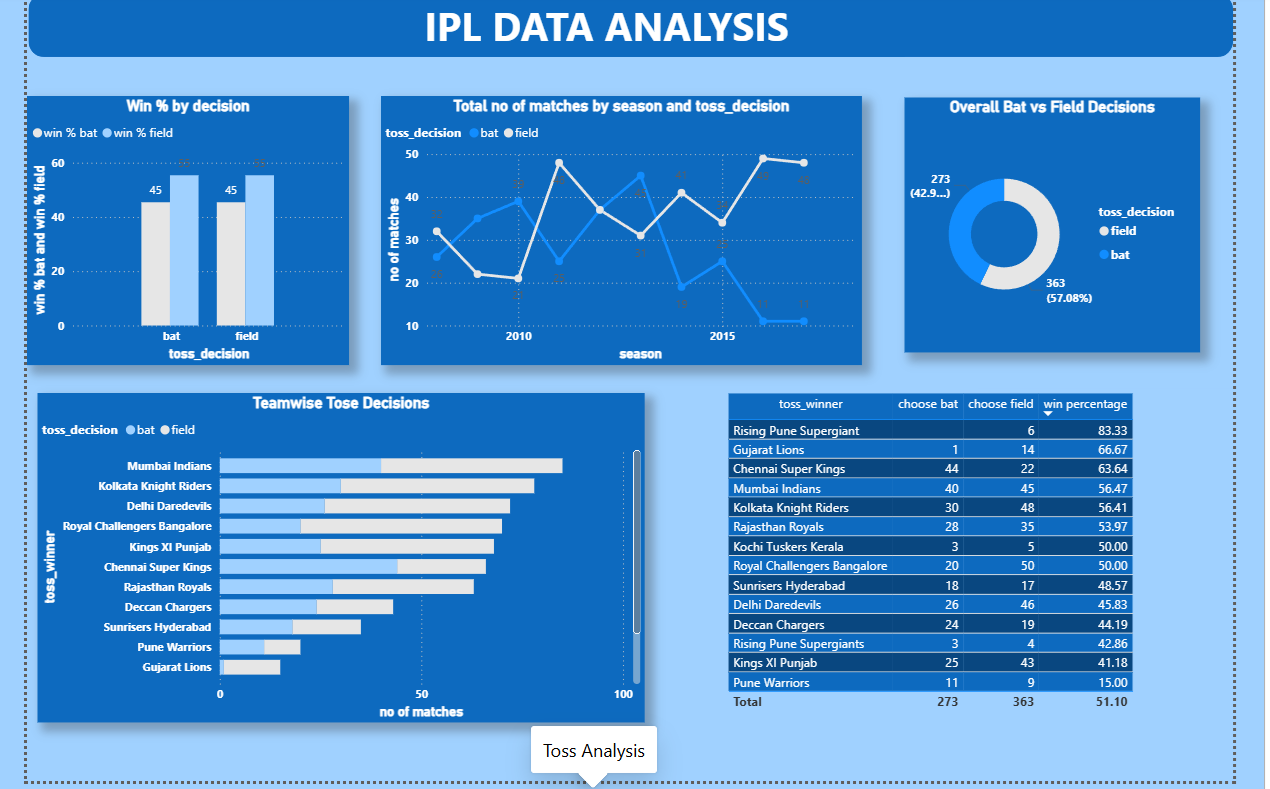

The dashboard page shown, as its layout file describes it:
{"tool":"powerbi","page":{"name":"Toss Analysis","canvas":[1306,852],"ordinal":2},"visuals":[{"type":"donutChart","title":"Overall Bat vs Field Decisions","fields":{"Category":["matches (1) csv.toss_decision"],"Y":["CountNonNull(matches (1) csv.id)"]},"box":[950.6,111.8,320.1,275.7],"z":0},{"type":"barChart","title":"Teamwise Tose Decisions","fields":{"Series":["matches (1) csv.toss_decision"],"Category":["matches (1) csv.toss_winner"],"Y":["CountNonNull(matches (1) csv.id)"]},"box":[11.6,431.9,657.5,356.7],"z":1000},{"type":"clusteredColumnChart","title":"Win % by decision","fields":{"Category":["matches (1) csv.toss_decision"],"Y":["matches (1) csv.win % bat","matches (1) csv.win % field"]},"box":[0,109.9,349,291.2],"z":2000},{"type":"lineChart","title":"Total no of matches by season and toss_decision","fields":{"Category":["matches (1) csv.season"],"Y":["CountNonNull(matches (1) csv.id)"],"Series":["matches (1) csv.toss_decision"]},"box":[383.7,109.9,520.6,291.2],"z":3000},{"type":"tableEx","fields":{"Values":["matches (1) csv.toss_winner","matches (1) csv.choose bat","matches (1) csv.choose field","matches (1) csv.win percentage"]},"box":[753.5,427.1,552.1,362.1],"z":4000},{"type":"shape","box":[1.6,0,1304,68.2],"z":5000},{"type":"textbox","box":[425.5,0,524.5,68.2],"z":6000}]}

Visuals, with their boxes on the page's 1306x852 design canvas (x1, y1, x2, y2). These are canvas units, not pixel positions in the 1270x789 screenshot, which may show the page scaled, cropped or inside an application window:
"Overall Bat vs Field Decisions" donutChart: 951/112/1271/388
"Teamwise Tose Decisions" barChart: 12/432/669/789
"Win % by decision" clusteredColumnChart: 0/110/349/401
"Total no of matches by season and toss_decision" lineChart: 384/110/904/401
tableEx - matches (1) csv.toss_winner x matches (1) csv.choose bat: 754/427/1306/789
shape: 2/0/1306/68
textbox: 426/0/950/68
